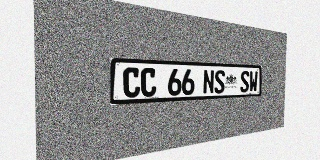6: (168, 68, 182, 96), (182, 69, 195, 95)
C: (123, 67, 140, 98), (141, 68, 156, 97)
N: (203, 69, 214, 94)
S: (214, 70, 225, 94), (240, 71, 249, 92)
W: (249, 71, 258, 92)
